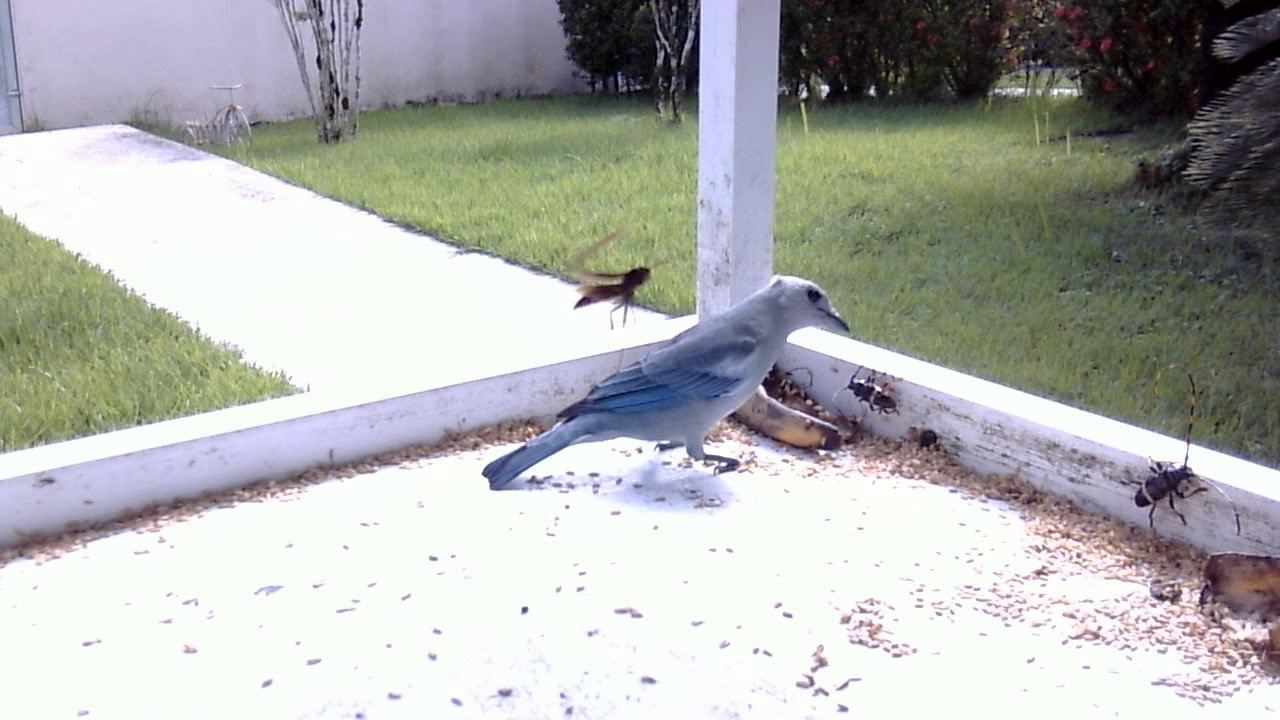sanhaco_da_amazonia: (482, 269, 848, 502)
